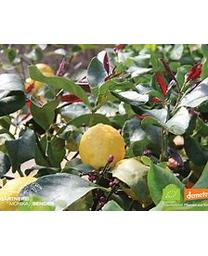lemon: (80, 125, 125, 169)
